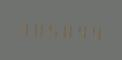eight: (60, 19, 73, 40)
five: (46, 19, 59, 39)
nine: (74, 20, 87, 41), (88, 21, 101, 42)
three: (17, 17, 30, 38)
zero: (31, 18, 44, 39)
